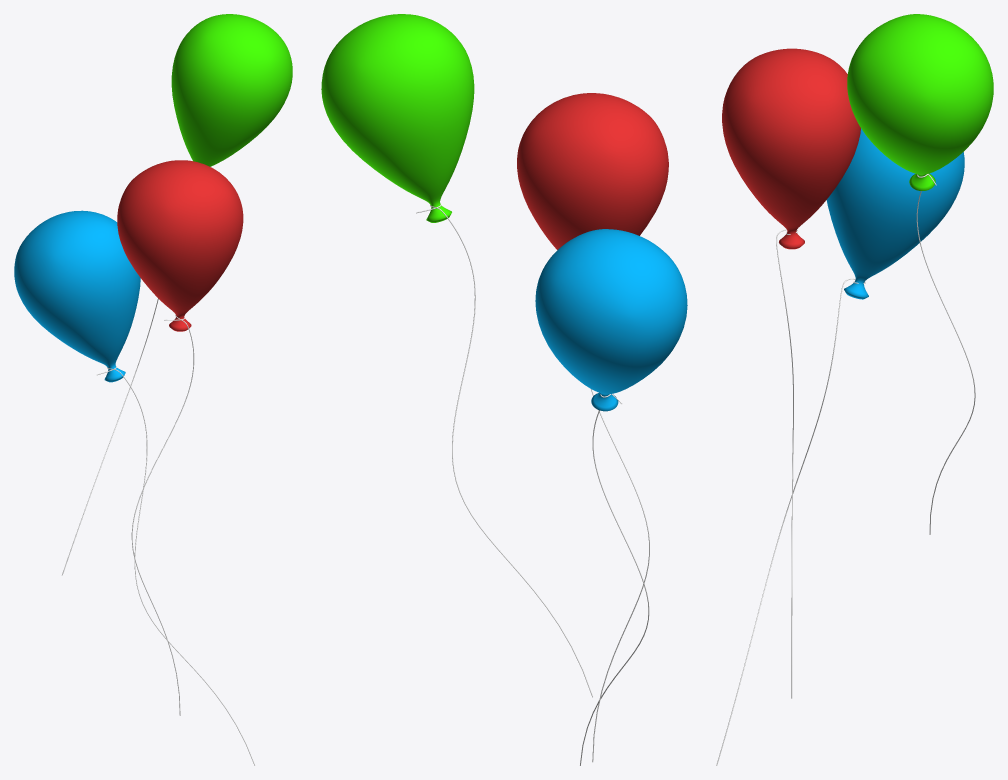
Rendered from baloons.glb.
3 renders of one model, left to right at view 1: azimuth 30°, elevation 25°; view 2: azimuth 150°, elevation 25°; view 3: azimuth 270°, elevation 25°, orthographic. The views are drawn at different scales.
Parts seen in each view (by area): view 1: Object_2, Object_3, Object_4, Object_5; view 2: Object_4, Object_3, Object_2, Object_5; view 3: Object_2, Object_4, Object_3, Object_5.
Boxes of the visible parts, box(x1,y1,x2,y2) form: Object_2: box(117, 160, 243, 331); Object_3: box(14, 210, 140, 382); Object_4: box(171, 14, 292, 166); Object_5: box(62, 298, 255, 765); Object_4: box(321, 14, 474, 222); Object_3: box(535, 229, 687, 411); Object_2: box(517, 93, 668, 249); Object_5: box(416, 204, 649, 765); Object_2: box(722, 48, 860, 249); Object_4: box(847, 14, 993, 190); Object_3: box(826, 128, 964, 299); Object_5: box(716, 174, 975, 765).
Size of the model in its own units: 2.89 by 6.69 by 2.16.
